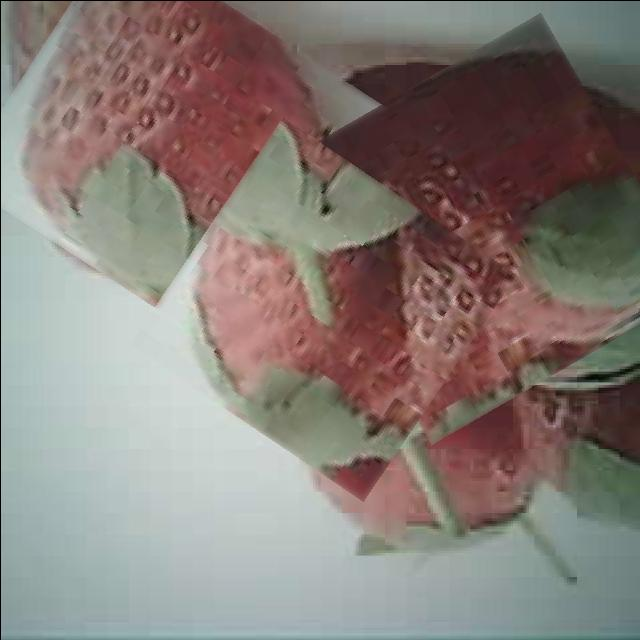strawberry: (299, 40, 640, 416), (0, 0, 372, 328), (155, 144, 490, 473)
